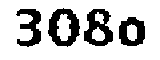0: (49, 3, 81, 51)
3: (12, 6, 45, 50)
8: (84, 8, 114, 48)
o: (120, 16, 149, 51)
